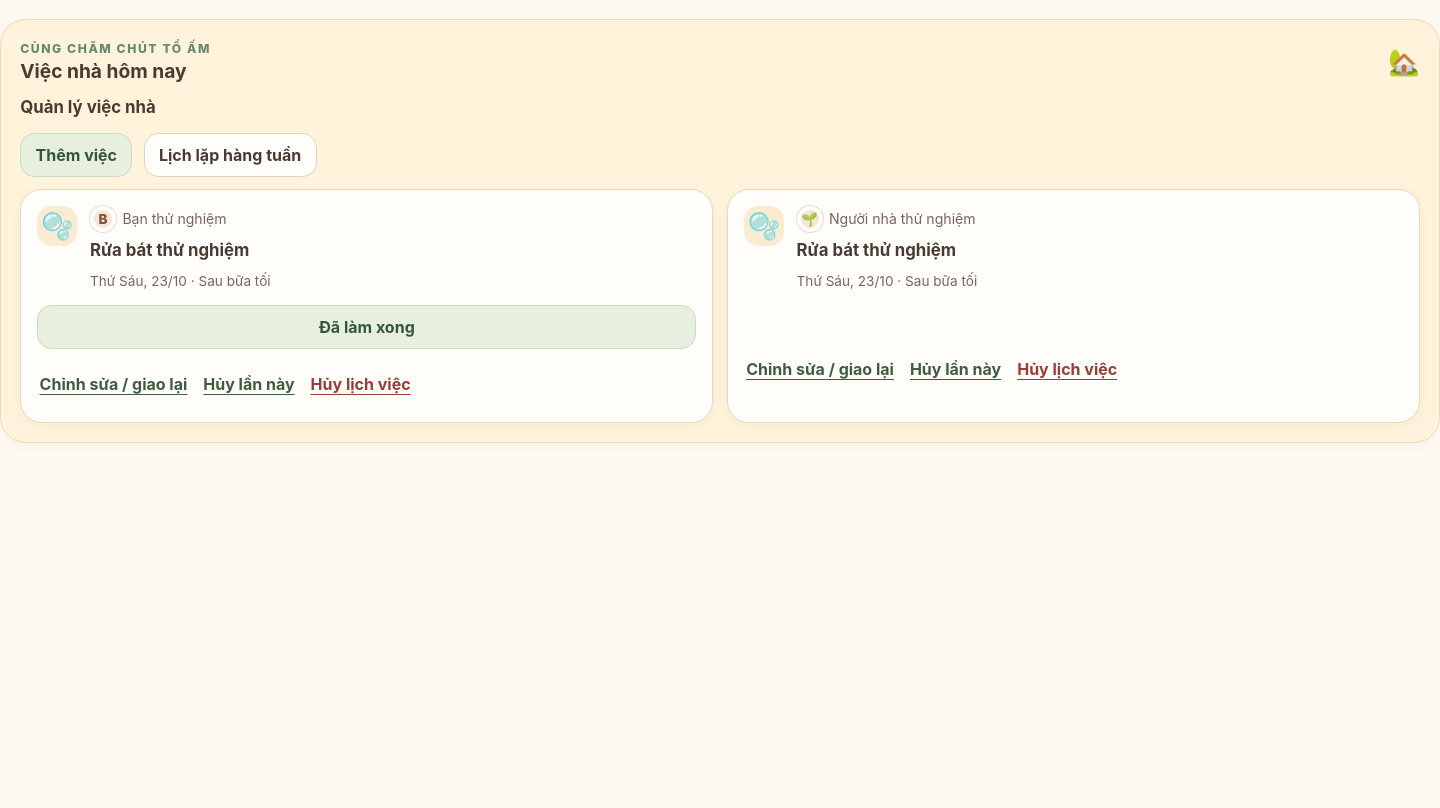
Test: family chores UI › parent adds a chore with active assignee and closes the form
Expected: the heading "Quản lý việc nhà" is shown, [20,97,156,117]
Click the button "Thêm việc": [76, 155] box [20,133,132,177]
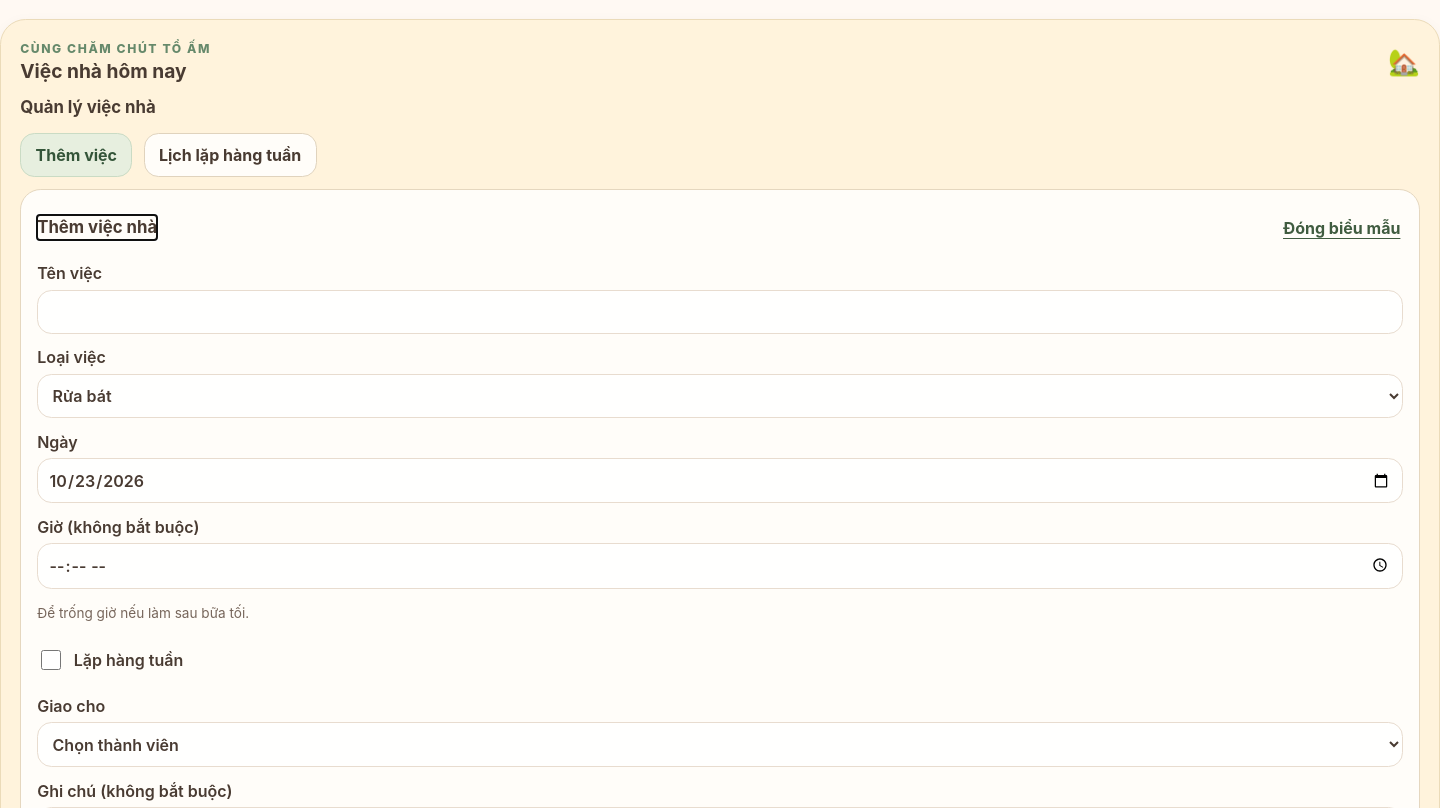
In the field labelled "Tên việc": [720, 312] box [37,290,1403,334], type "Việc nhà mới"
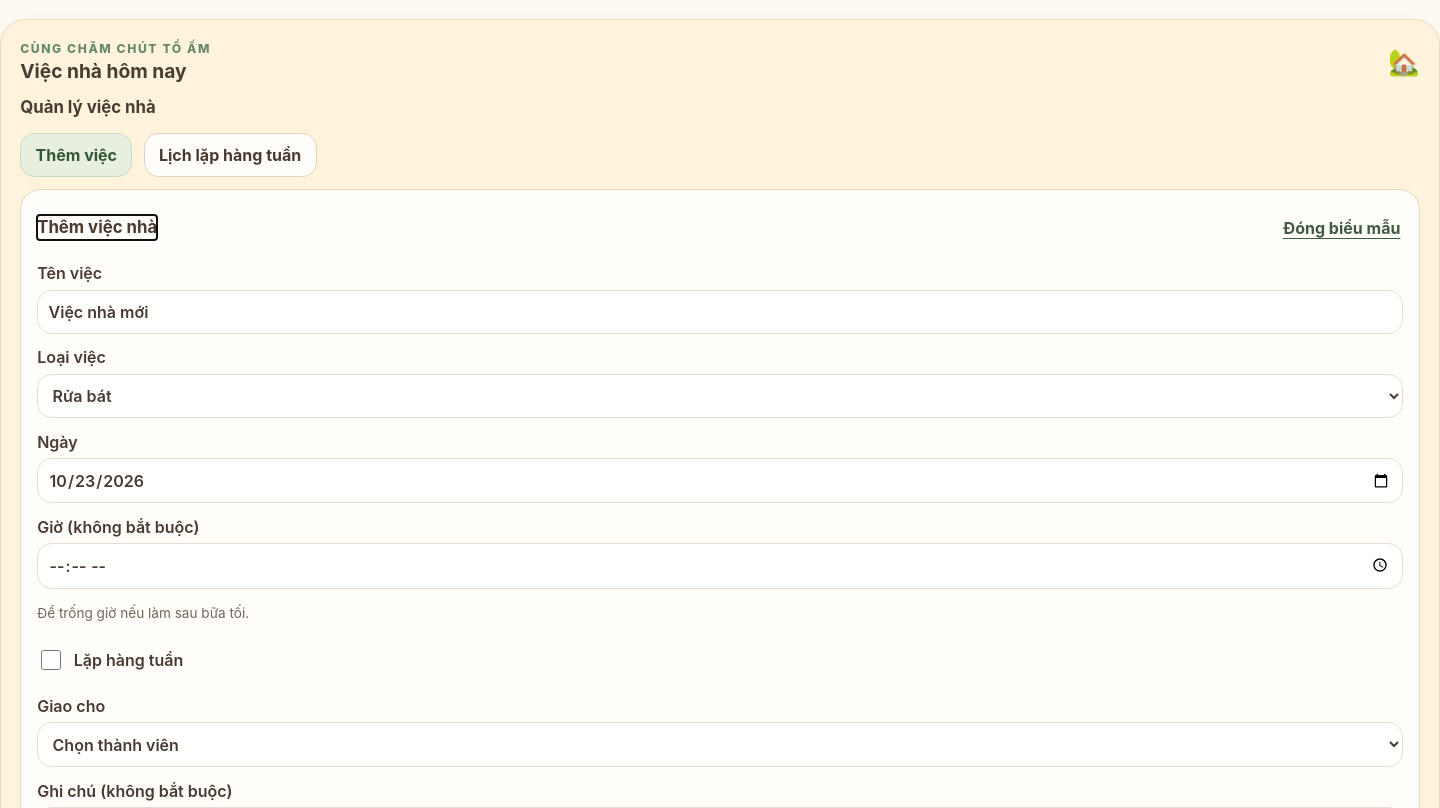
Select "Người nhà thử nghiệm" in the dropdown labelled "Giao cho": [720, 745] box [37,722,1403,767]
(page scrolled)
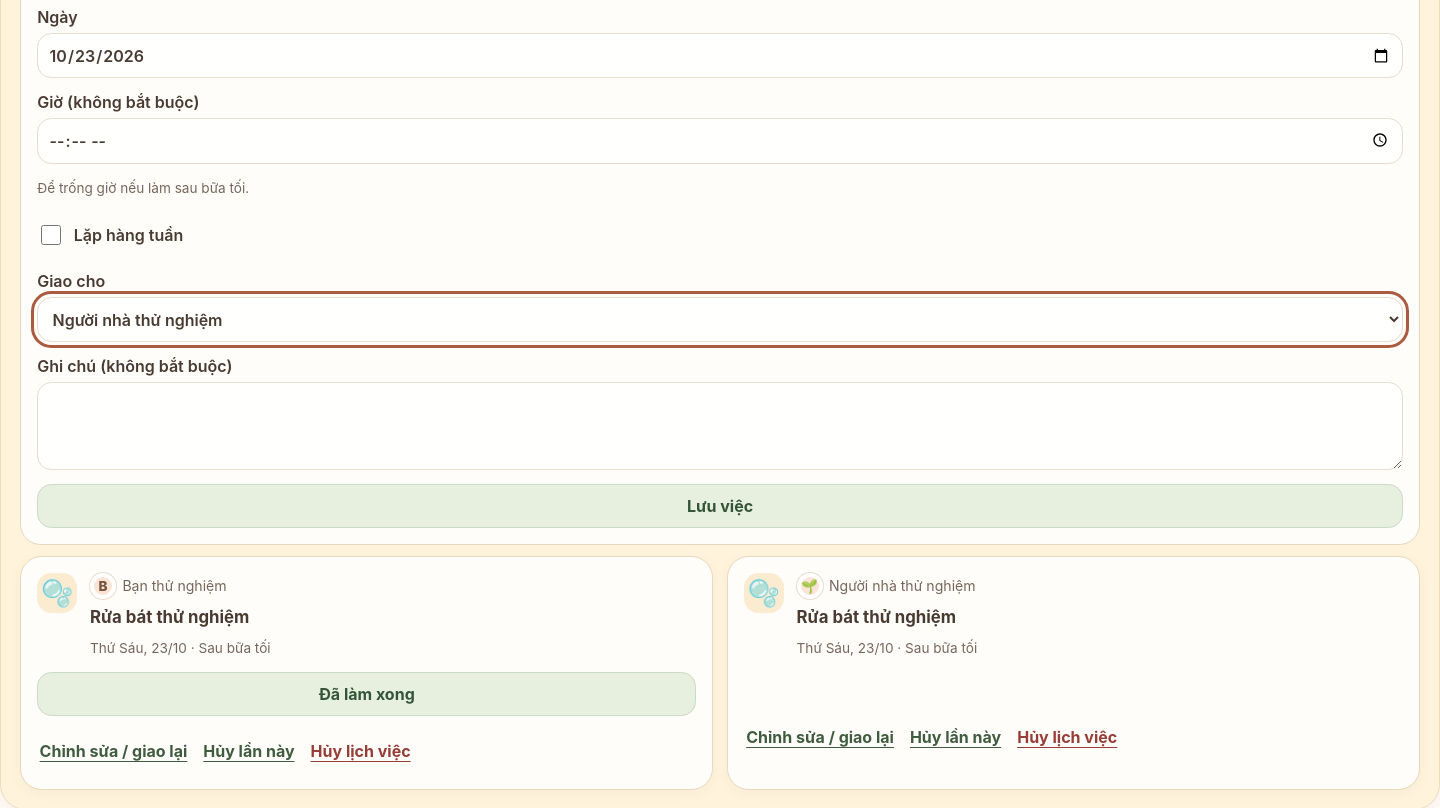
Click the button "Lưu việc": [720, 506] box [37,484,1403,528]
(page scrolled)
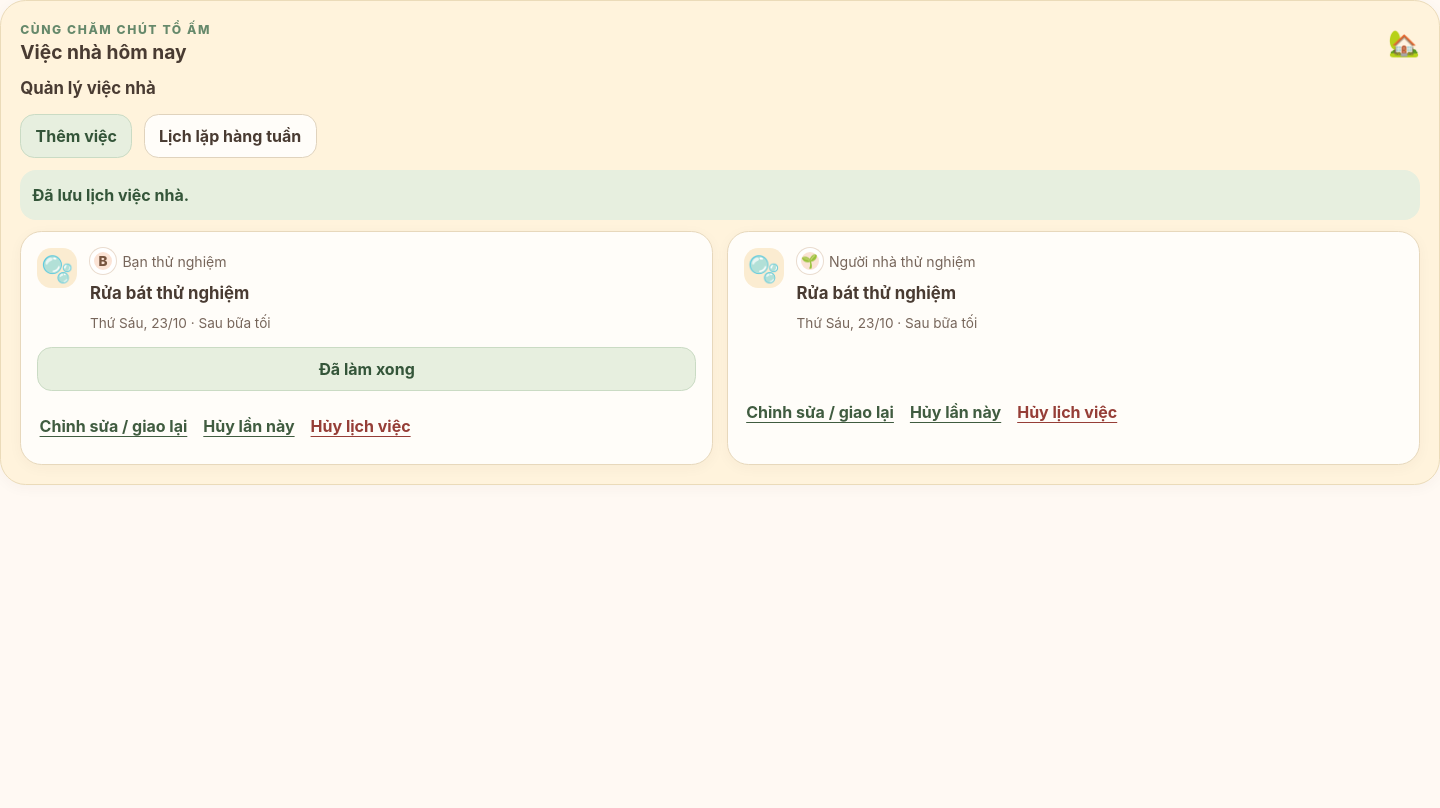
Now the text "Đã lưu lịch việc nhà." is shown, box [20,170,1420,220]
